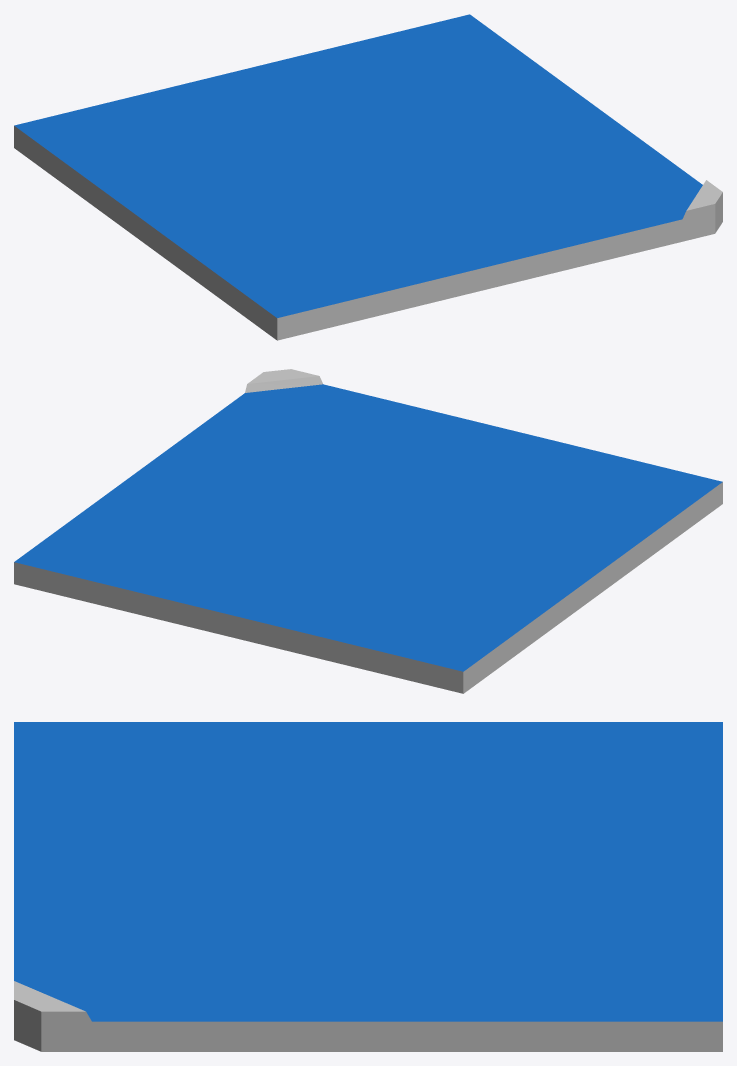
Rendered from SM_sidewalk_4.fbx.
3 renders of one model, top to bottom at view 1: azimuth 30°, elevation 25°; view 2: azimuth 150°, elevation 25°; view 3: azimuth 270°, elevation 25°, orthographic. The views are drawn at different scales.
Parts seen in each view (by area): view 1: Cube_25; view 2: Cube_25; view 3: Cube_25.
Boxes of the visible parts, left/top/right/bottom form: Cube_25: left=14, top=14, right=722, bottom=340; Cube_25: left=14, top=369, right=722, bottom=693; Cube_25: left=14, top=722, right=722, bottom=1051.
Size of the model in its own units: 250 by 15.7 by 250.
